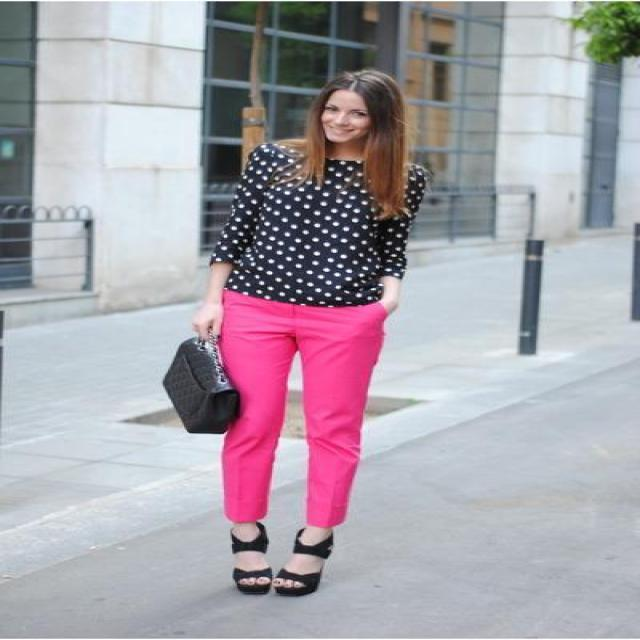bag: (163, 346, 240, 433)
pants: (218, 295, 390, 530)
shirt: (212, 141, 414, 306)
shoe: (230, 525, 332, 596)
